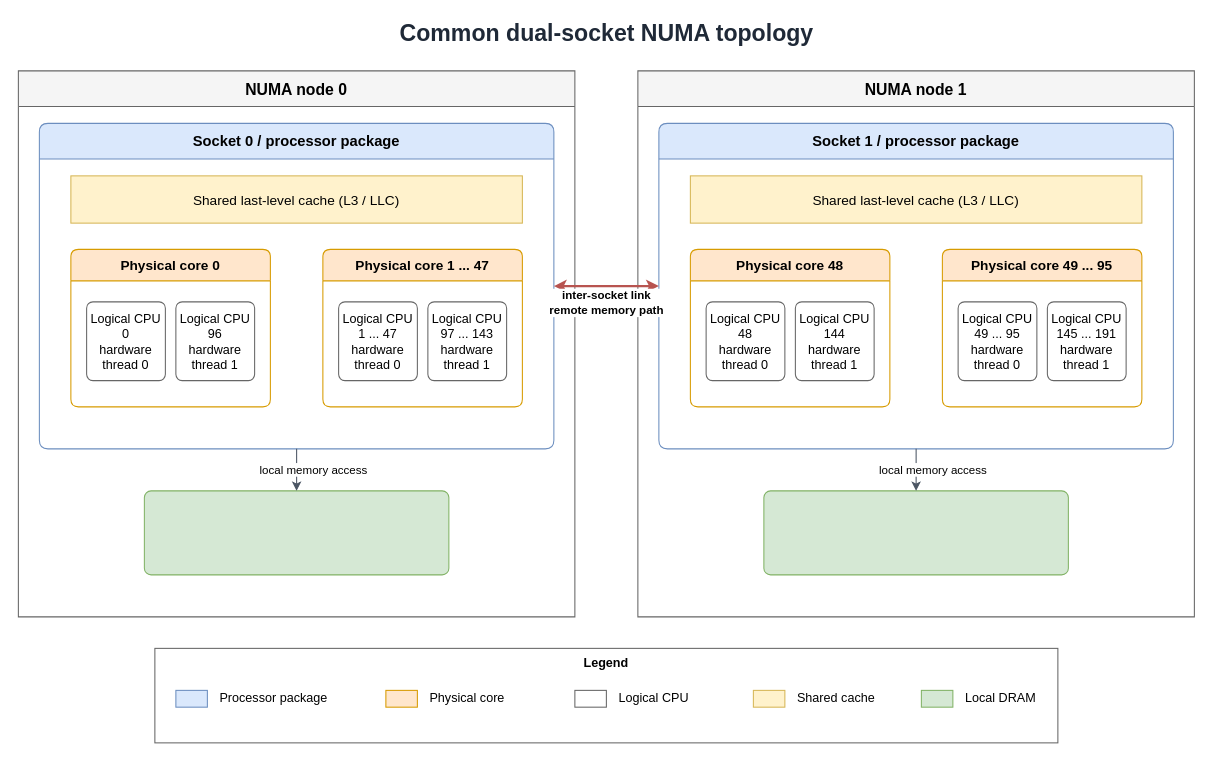
The diagram is 1213 pixels wide and 761 high, and some of its shapes have lost their labels. Each missing label, with the centre of its shape:
"Local DRAM memory channels attached to socket 0" belongs at point 296,532.
"Local DRAM memory channels attached to socket 1" belongs at point 915,532.
